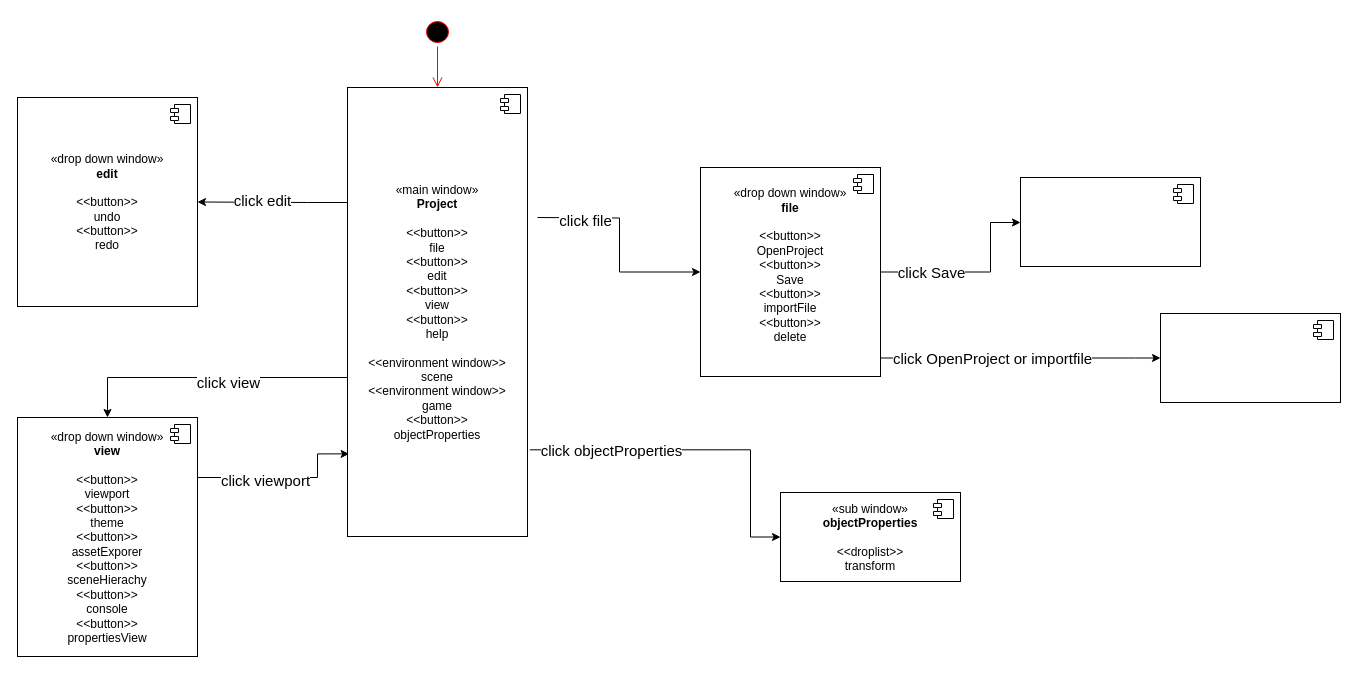
This 1358x674 diagram has some shape labels left out. The centre of each missing label's shape, as x and y in pixels:
«model window» fileBrowser <<button>> Open: pixel 1250 357
«model window» fileBrowser <<button>> save: pixel 1110 221
